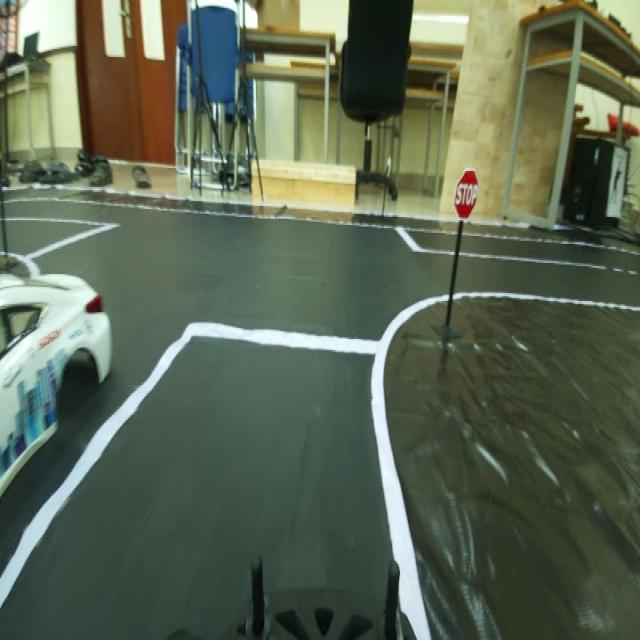car: (1, 260, 117, 532)
stop: (454, 166, 479, 216)
